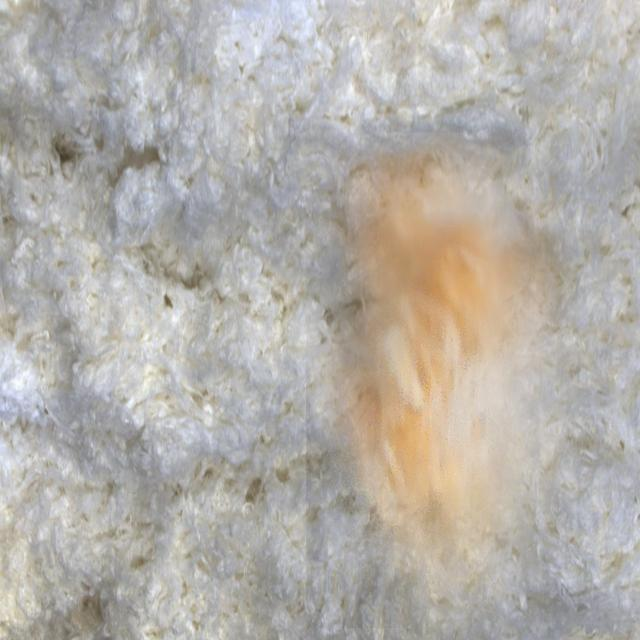dust: (306, 133, 577, 628)
